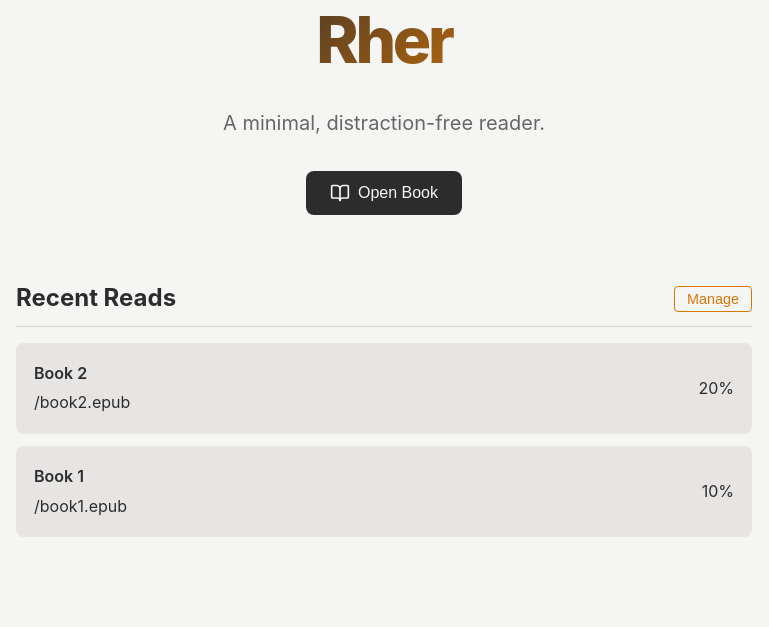
Test case: Home.vue Manage Mode › toggles manage mode when Manage button is clicked
This screenshot has width=769, height=627.
Click the button with class "manage-btn" at (713,299), box [674,286,752,312]
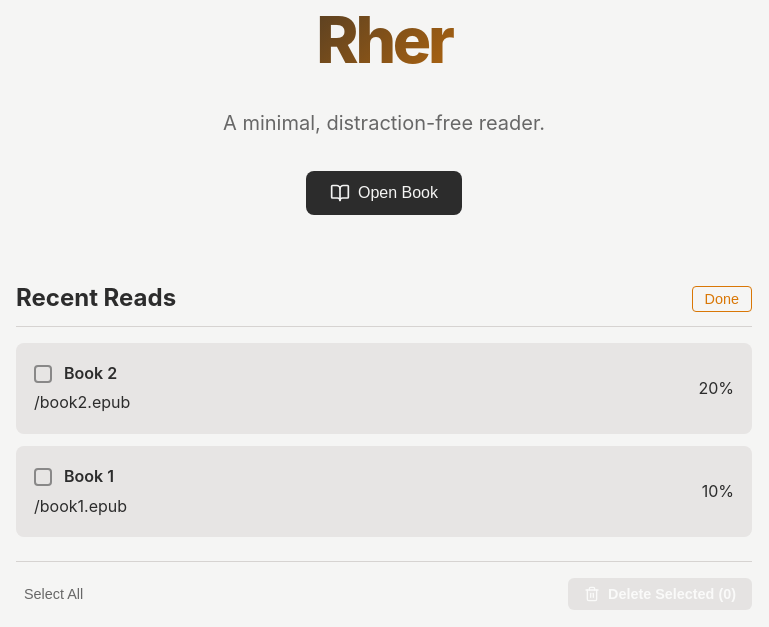
Expected: the button with class "manage-btn" reads "Done", [692,286,752,312]
